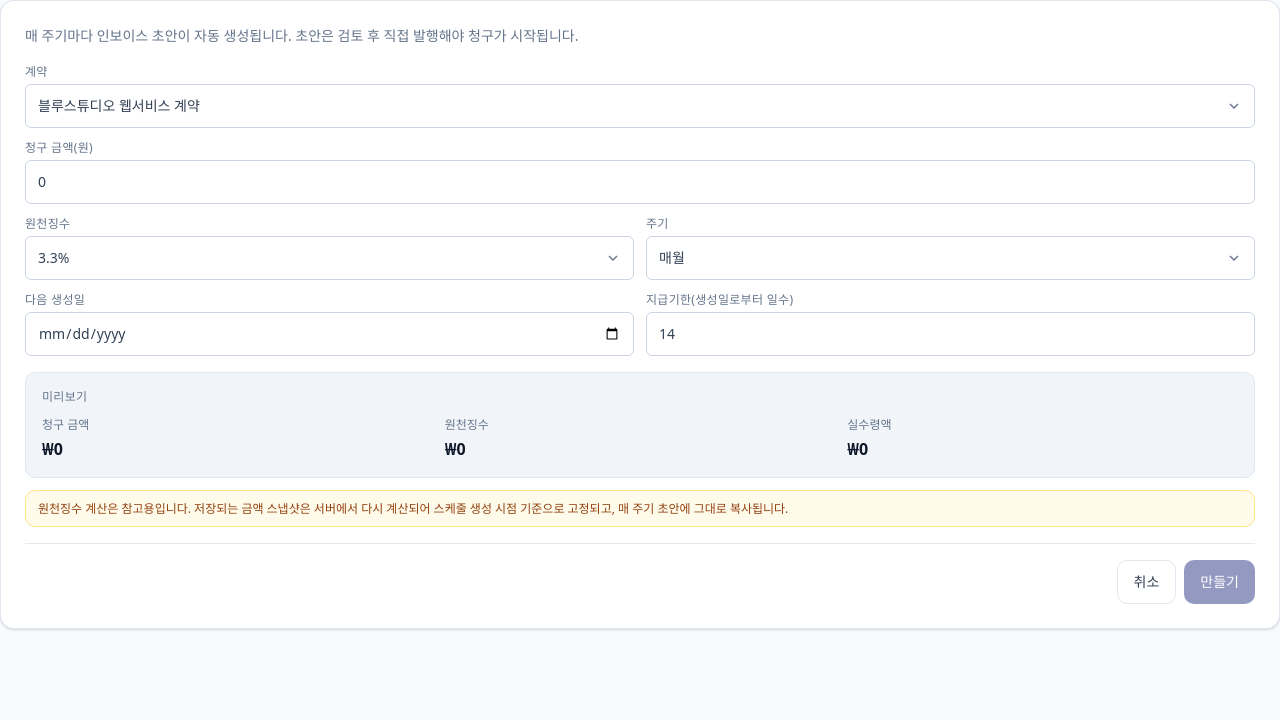
Test: RecurringScheduleForm › keeps the submit button disabled while the amount is zero
Type "2026-08-01" into the date field labelled "다음 생성일" at (330, 334), box [25,312,634,356]
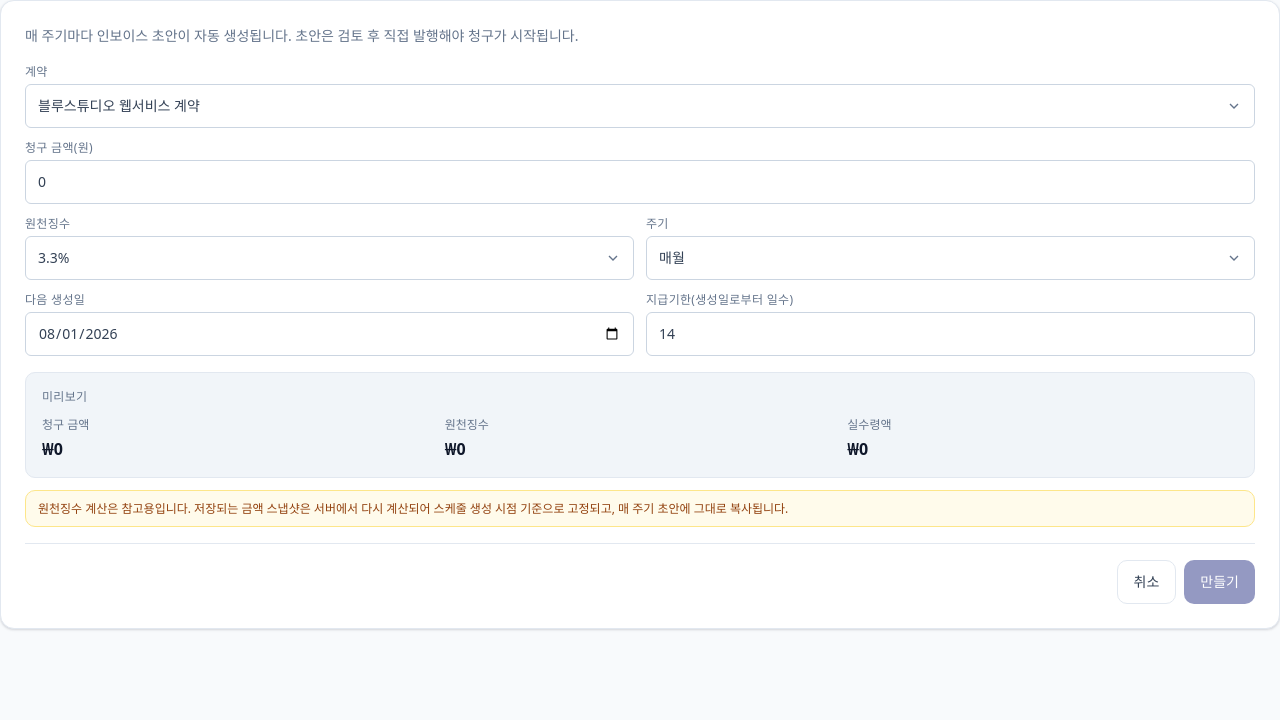
Check: the button "만들기" is disabled, box [1184,560,1255,604]
Replace the text in the number field labelled "청구 금액(원)" with "400000" at (640, 182), box [25,160,1255,204]
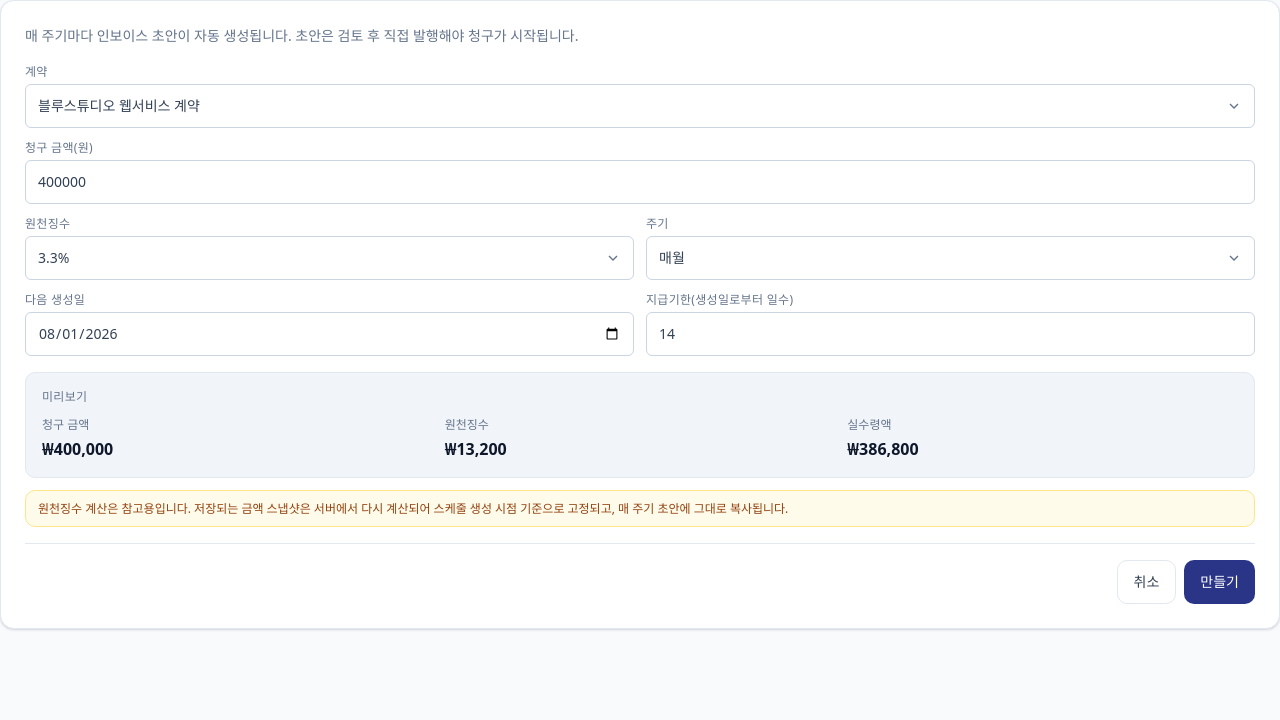
Check: the button "만들기" is enabled, box [1184,560,1255,604]
